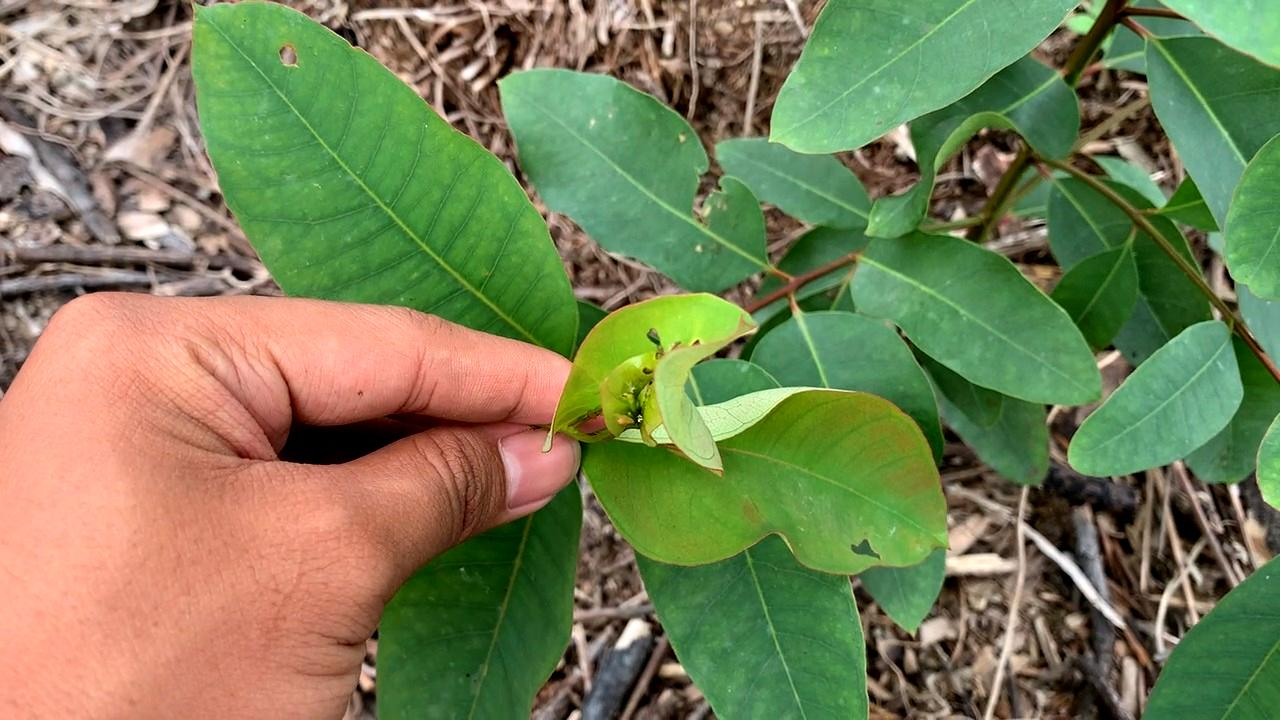Leaf Roller - Leaf: (540, 292, 763, 479)
